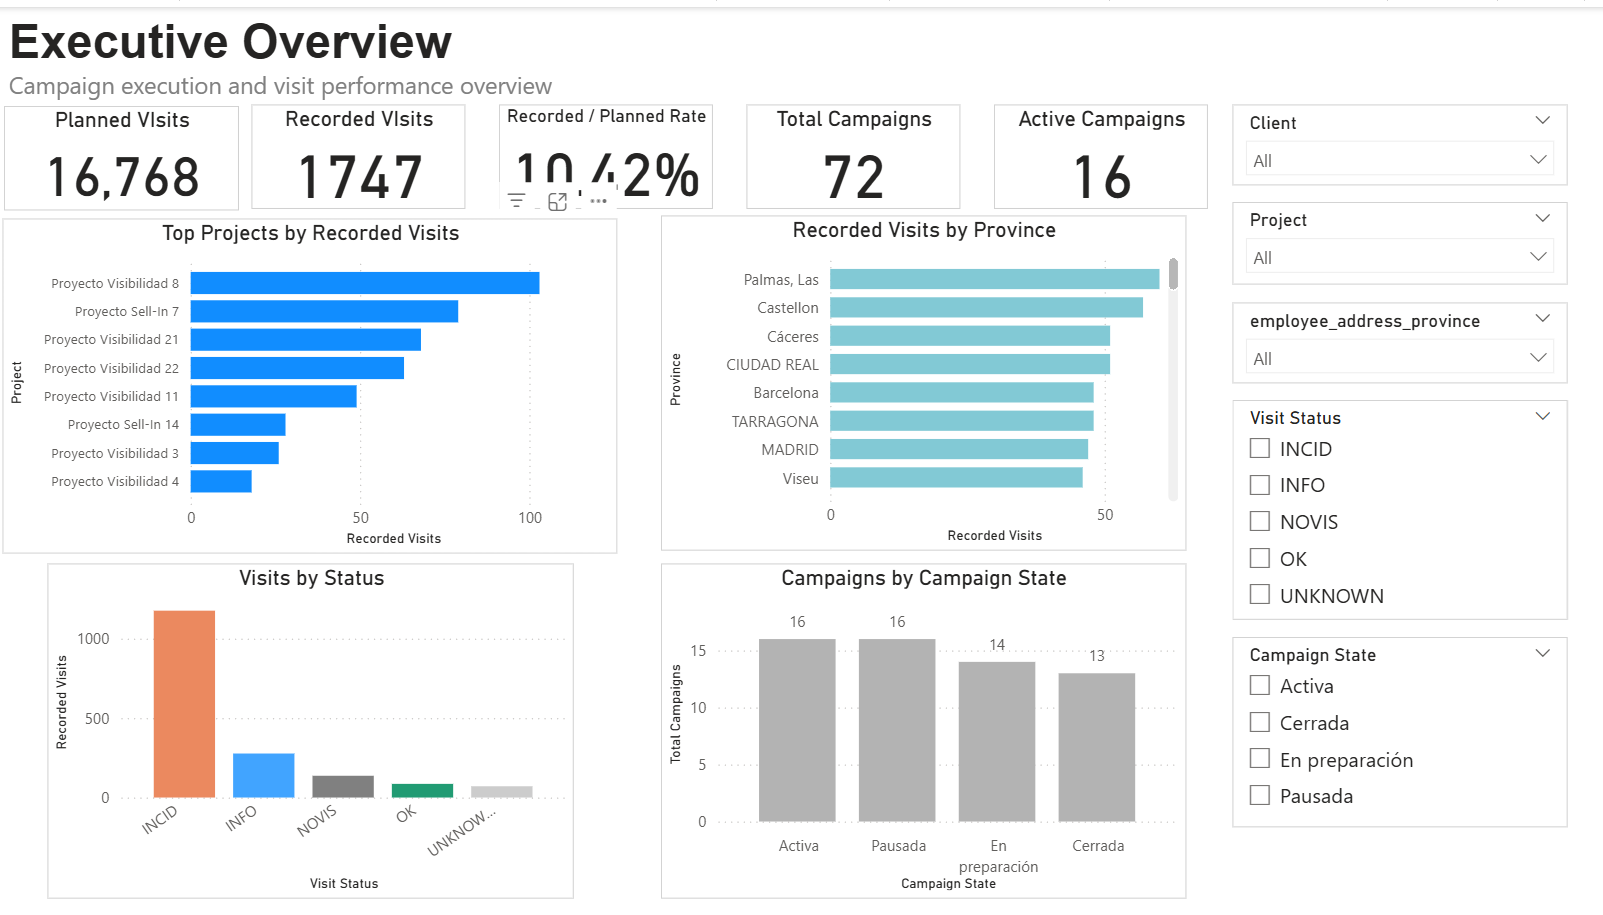

The dashboard page shown, as its layout file describes it:
{"tool":"powerbi","page":{"name":"Executive Overview","canvas":[1280,720],"ordinal":0},"visuals":[{"type":"textbox","box":[10.4,0,563.1,83.4],"z":0},{"type":"slicer","fields":{"Values":["dim_clients.client_name"]},"box":[984.3,77.2,265.3,64],"z":1000},{"type":"slicer","fields":{"Values":["dim_projects.project_name"]},"box":[984.3,154.8,265.3,65.1],"z":2000},{"type":"slicer","fields":{"Values":["dim_campaigns.campaign_state"]},"box":[984.3,498.8,265.3,150.4],"z":3000},{"type":"slicer","fields":{"Values":["fct_visits.visit_status"]},"box":[984.3,311.1,265.3,174.1],"z":4000},{"type":"slicer","fields":{"Values":["dim_workers.employee_address_province"]},"box":[984.3,233.5,265.3,64],"z":5000},{"type":"card","title":"Planned VIsits","fields":{"Values":["_Measures.Planned Visits"]},"box":[11.8,78.2,186,82.9],"z":6000},{"type":"card","title":"Recorded VIsits","fields":{"Values":["_Measures.Recorded Visits"]},"box":[207.6,77.8,169.4,82.9],"z":7000},{"type":"card","title":"Recorded / Planned Rate","fields":{"Values":["_Measures.Completion Rate"]},"box":[403.7,77.8,169.4,82.9],"z":8000},{"type":"card","title":"Total Campaigns","fields":{"Values":["_Measures.Total Campaigns"]},"box":[599.8,77,169.4,82.9],"z":9000},{"type":"card","title":"Active Campaigns","fields":{"Values":["_Measures.Active Campaigns"]},"box":[796,77,169.4,82.9],"z":10000},{"type":"barChart","title":"Top Projects by Recorded Visits","fields":{"Category":["dim_projects.project_name"],"Y":["_Measures.Recorded Visits"]},"box":[10.7,167,486.8,265.3],"z":11000},{"type":"clusteredColumnChart","title":"Visits by Status","fields":{"Category":["fct_visits.visit_status"],"Y":["_Measures.Recorded Visits"]},"box":[46.2,440.6,416.9,265.3],"z":12000},{"type":"barChart","title":"Recorded Visits by Province","fields":{"Category":["dim_pos.intervention_point_province"],"Y":["_Measures.Recorded Visits"]},"box":[531.8,164.6,415.7,265.3],"z":13000},{"type":"columnChart","title":"Campaigns by Campaign State","fields":{"Category":["dim_campaigns.campaign_state"],"Y":["_Measures.Total Campaigns"]},"box":[531.8,440.6,415.7,265.3],"z":14000}]}

Visuals, with their boxes in screenshot pixels (x1, y1, x2, y2), scaled from the page's 1280x720 canvas onto the 1603x915 screenshot:
textbox: [13, 0, 718, 106]
slicer - dim_clients.client_name: [1233, 98, 1565, 179]
slicer - dim_projects.project_name: [1233, 197, 1565, 279]
slicer - dim_campaigns.campaign_state: [1233, 634, 1565, 825]
slicer - fct_visits.visit_status: [1233, 395, 1565, 617]
slicer - dim_workers.employee_address_province: [1233, 297, 1565, 378]
"Planned VIsits" card: [15, 99, 248, 205]
"Recorded VIsits" card: [260, 99, 472, 204]
"Recorded / Planned Rate" card: [506, 99, 718, 204]
"Total Campaigns" card: [751, 98, 963, 203]
"Active Campaigns" card: [997, 98, 1209, 203]
"Top Projects by Recorded Visits" barChart: [13, 212, 623, 549]
"Visits by Status" clusteredColumnChart: [58, 560, 580, 897]
"Recorded Visits by Province" barChart: [666, 209, 1187, 546]
"Campaigns by Campaign State" columnChart: [666, 560, 1187, 897]
